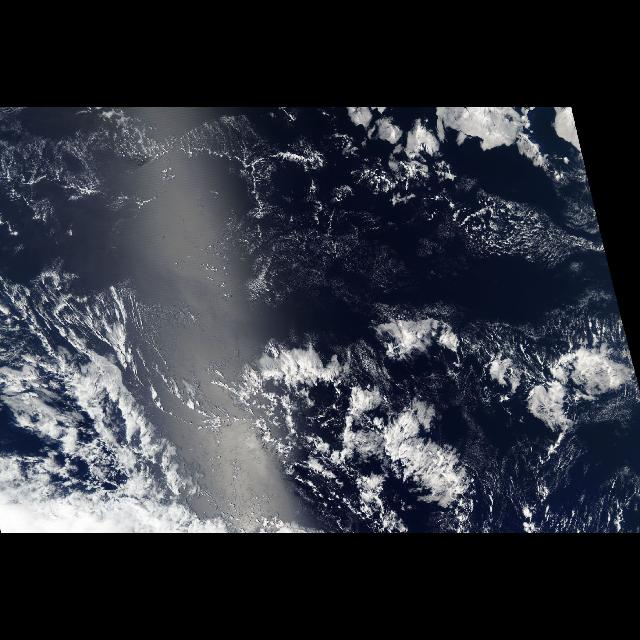Fish: (3, 277, 493, 529)
Flower: (348, 108, 558, 216)
Sugar: (3, 110, 340, 266)
